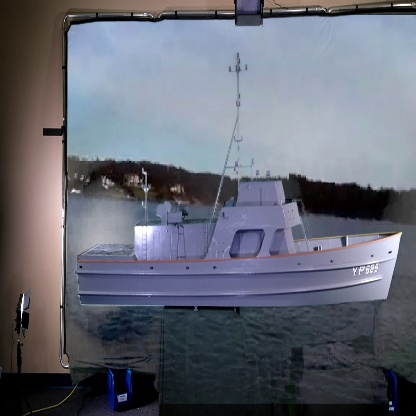YP689: (75, 47, 402, 312)
